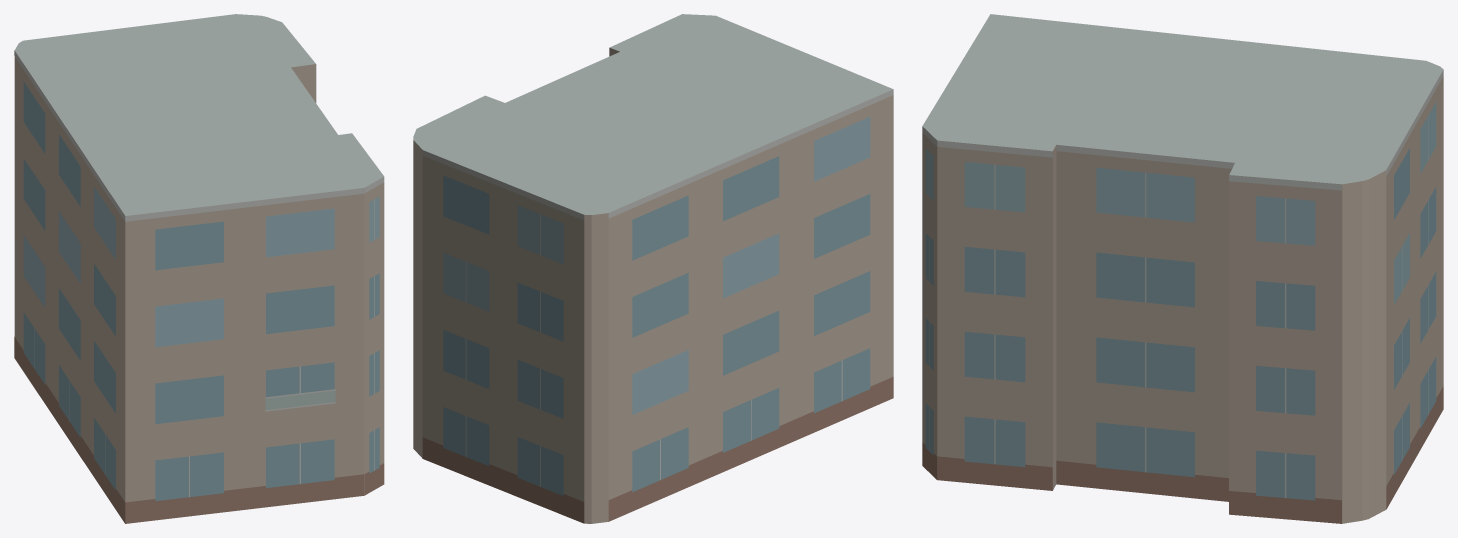
Rendered from survey-upis-32683093.glb.
The picture shows the model from 3 angles, left to right: view 1: azimuth 30°, elevation 25°; view 2: azimuth 150°, elevation 25°; view 3: azimuth 270°, elevation 25°; orthographic projection. The views are drawn at different scales.
Visible parts, largest first — view 1: survey-upis-32683093.tmp; view 2: survey-upis-32683093.tmp; view 3: survey-upis-32683093.tmp.
Part boxes in pixels (box(x1,y1,x2,y2)): survey-upis-32683093.tmp: box(14, 14, 384, 523); survey-upis-32683093.tmp: box(413, 14, 893, 523); survey-upis-32683093.tmp: box(922, 14, 1443, 523).
Size of the model in its own units: 14.2 by 13.2 by 18.37.
